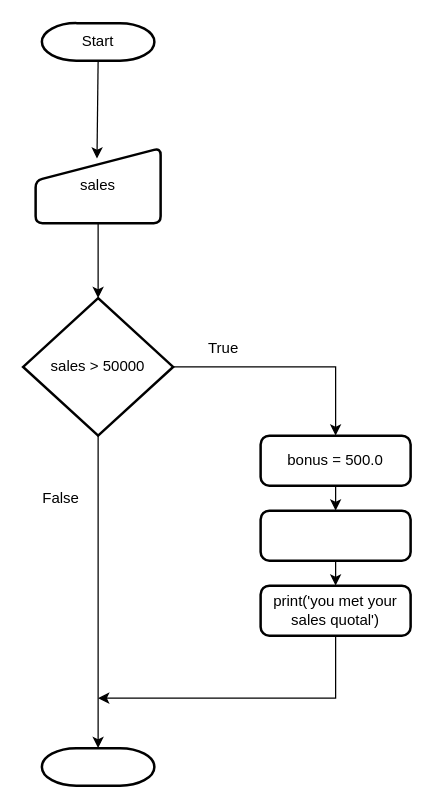
The diagram is 433 pixels wide and 808 high, and some of its shapes have lost their labels. The shapes that lost their labels are listed below. From the top down, each one's centre as x and y in pixels, then its label:
point 335,535: commision_rate =0.12
point 97,766: end
